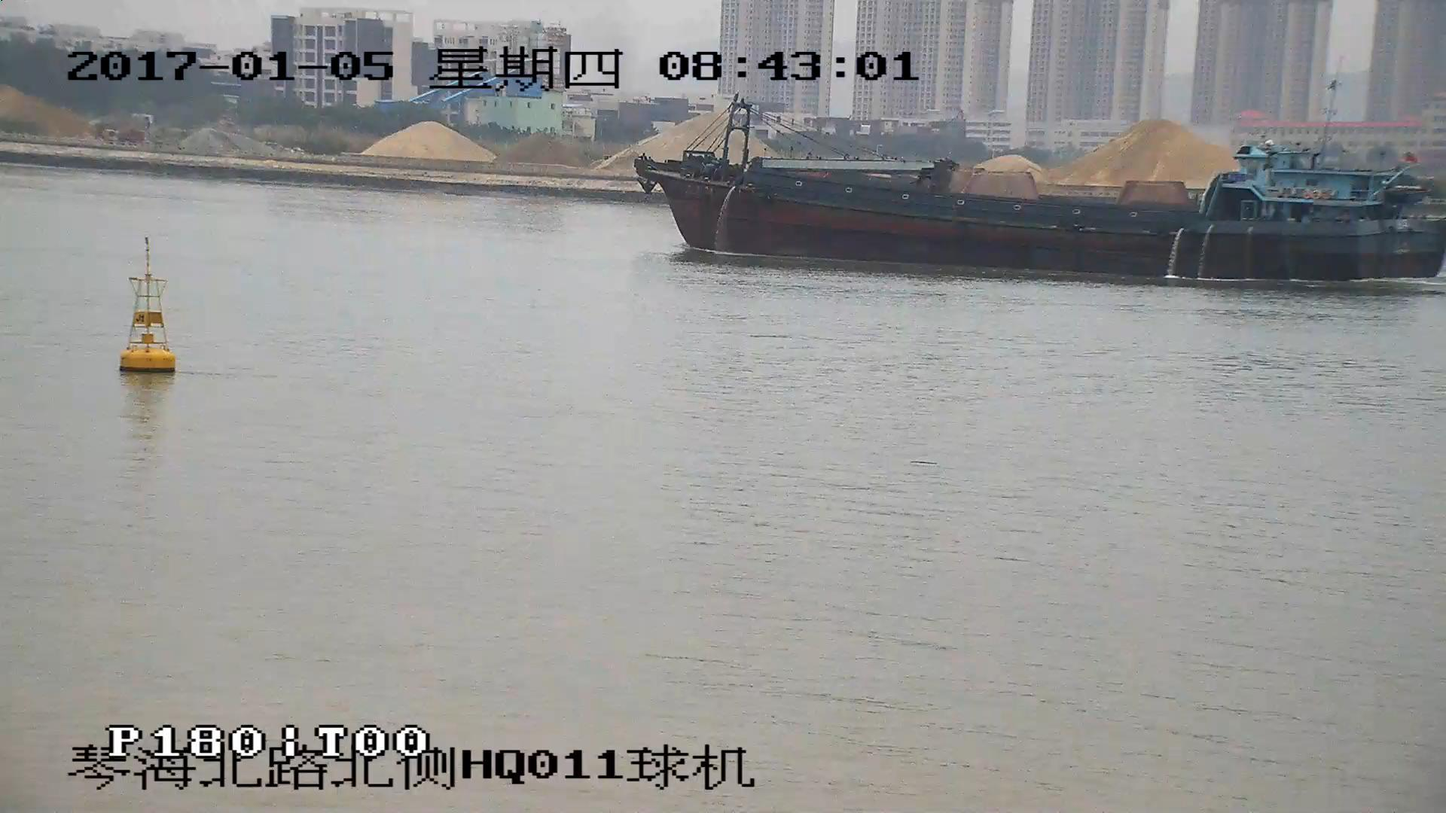bulk cargo carrier: (632, 99, 1445, 280)
